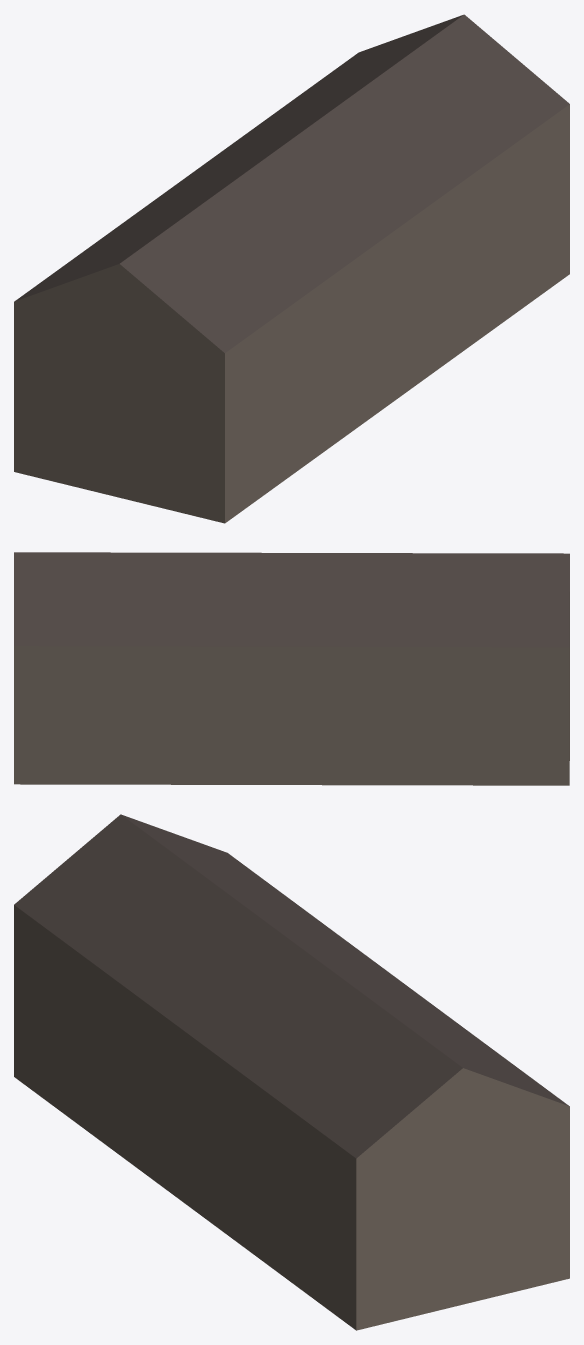
3 views of the same model, one above another, from view 1: azimuth 30°, elevation 25°; view 2: azimuth 150°, elevation 25°; view 3: azimuth 270°, elevation 25° (orthographic). The views are drawn at different scales.
Visible parts, largest first — view 1: HP-w369317579; view 2: HP-w369317579; view 3: HP-w369317579.
Boxes of the visible parts, bbox=[...] form: HP-w369317579: bbox=[14, 14, 569, 523]; HP-w369317579: bbox=[14, 552, 569, 785]; HP-w369317579: bbox=[14, 814, 569, 1330].
Size of the model in its own units: 22.87 by 8.25 by 17.57.
